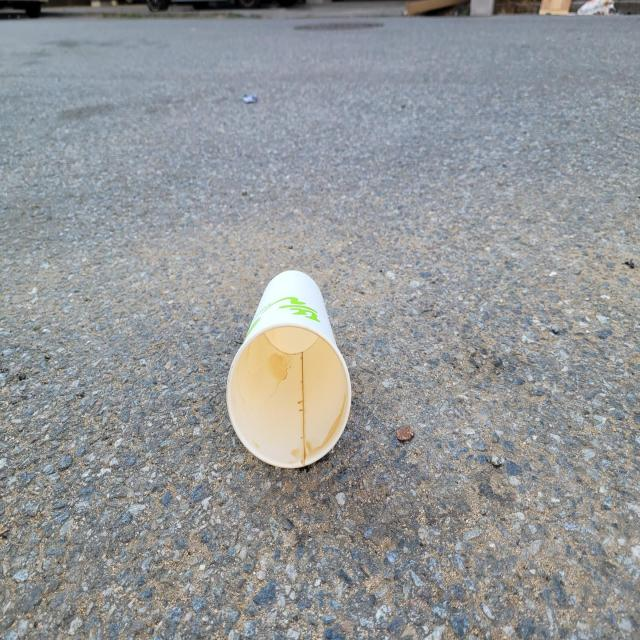paperpack: (227, 270, 352, 468)
